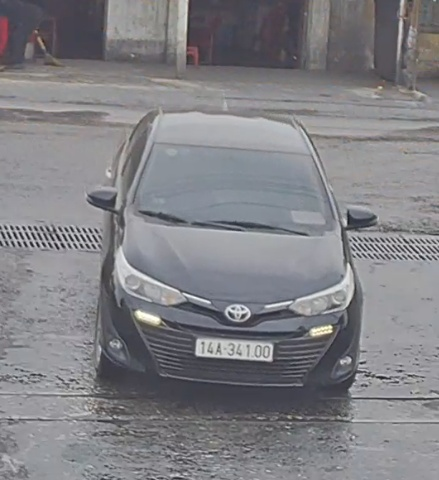vehicle plate: (194, 328, 281, 367)
